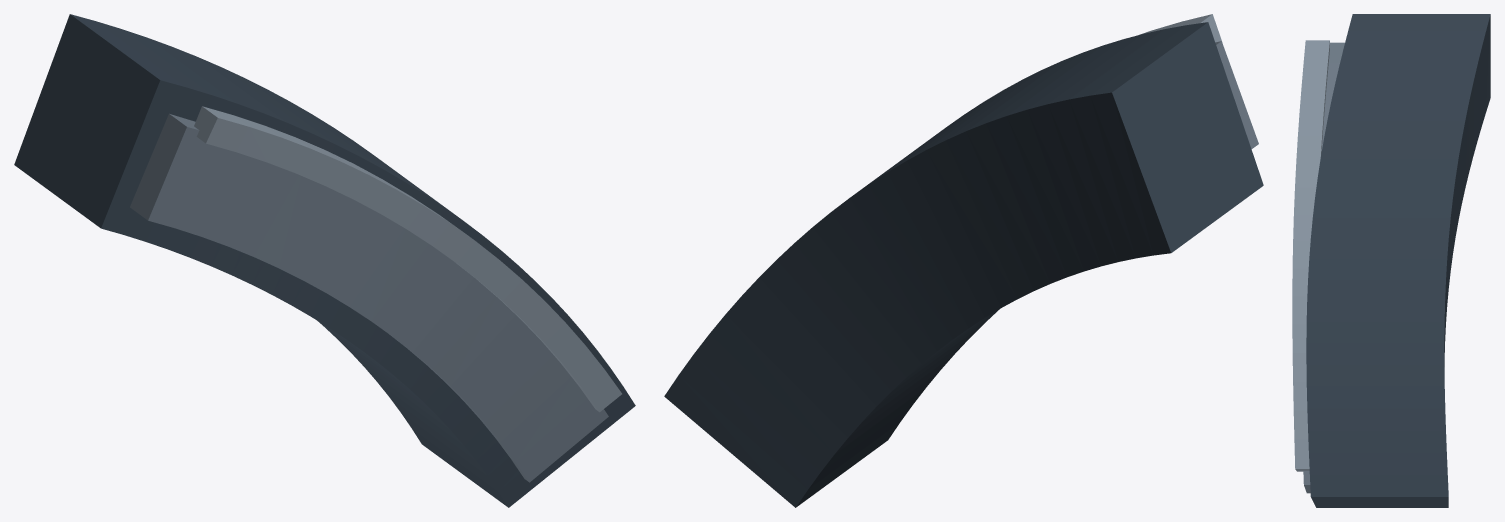
File: ev_core_r10dp_mid_ne.glb
The picture shows the model from 3 angles, left to right: view 1: azimuth 30°, elevation 25°; view 2: azimuth 150°, elevation 25°; view 3: azimuth 270°, elevation 25°; orthographic projection. The views are drawn at different scales.
Visible parts, largest first — view 1: mid_ne_body, mid_ne_inset, mid_ne_edge; view 2: mid_ne_body, mid_ne_inset; view 3: mid_ne_body, mid_ne_edge, mid_ne_inset.
Part boxes in pixels (x1,y1,x2,y2): mid_ne_body: [14, 14, 635, 507]; mid_ne_inset: [130, 113, 608, 482]; mid_ne_edge: [194, 106, 621, 412]; mid_ne_body: [664, 22, 1263, 507]; mid_ne_inset: [1215, 41, 1258, 149]; mid_ne_body: [1306, 14, 1490, 507]; mid_ne_edge: [1292, 40, 1329, 471]; mid_ne_inset: [1303, 42, 1344, 493].
Bounding box in the file's own units: 63.59 × 59.04 × 28.43.
